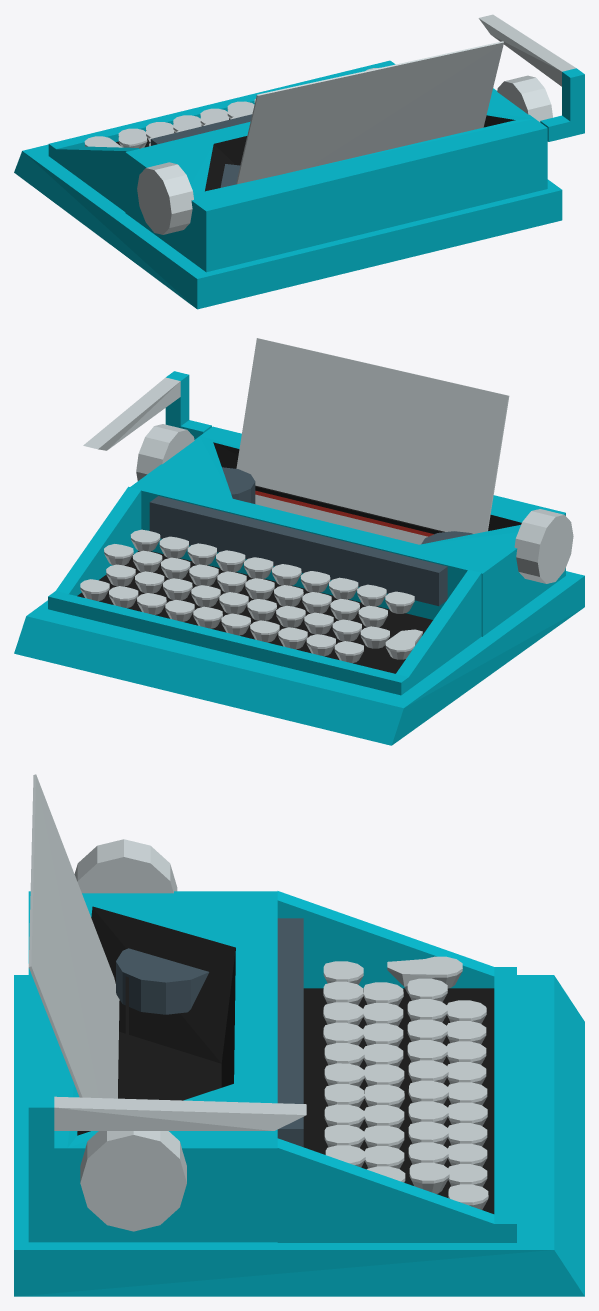
Rendered from Typewriter.glb.
The picture shows the model from 3 angles, top to bottom: view 1: azimuth 30°, elevation 25°; view 2: azimuth 150°, elevation 25°; view 3: azimuth 270°, elevation 25°; orthographic projection. The views are drawn at different scales.
Parts seen in each view (by area): view 1: Node; view 2: Node; view 3: Node.
Part boxes in pixels (<box>): Node: <box>14,14,584,309</box>; Node: <box>14,338,584,745</box>; Node: <box>14,774,584,1296</box>.
Size of the model in its own units: 2.2 by 1.02 by 1.77.
